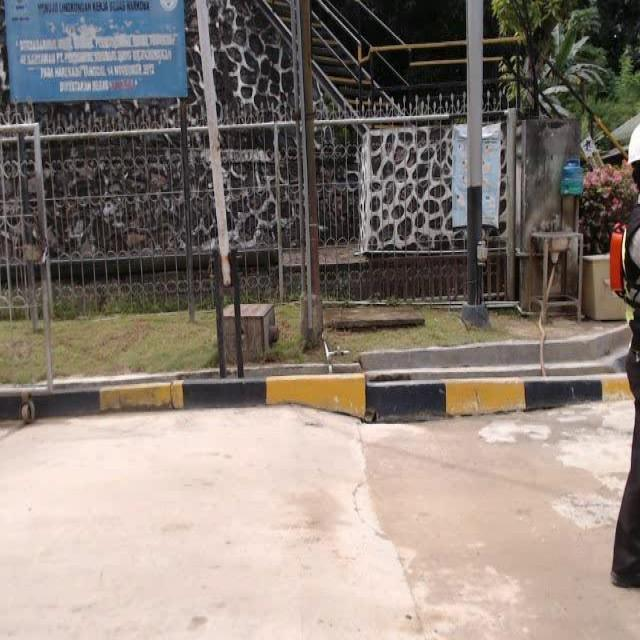vest: (599, 220, 631, 295)
